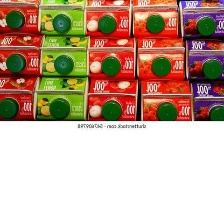carton: (36, 75, 89, 122), (138, 78, 192, 123), (86, 77, 139, 122), (137, 36, 187, 79), (88, 35, 137, 78), (40, 34, 88, 77), (0, 75, 37, 127), (0, 35, 45, 75), (178, 0, 224, 38), (85, 0, 132, 37), (131, 0, 178, 36), (184, 38, 223, 81), (38, 0, 86, 34), (188, 80, 224, 121), (0, 0, 41, 34)
